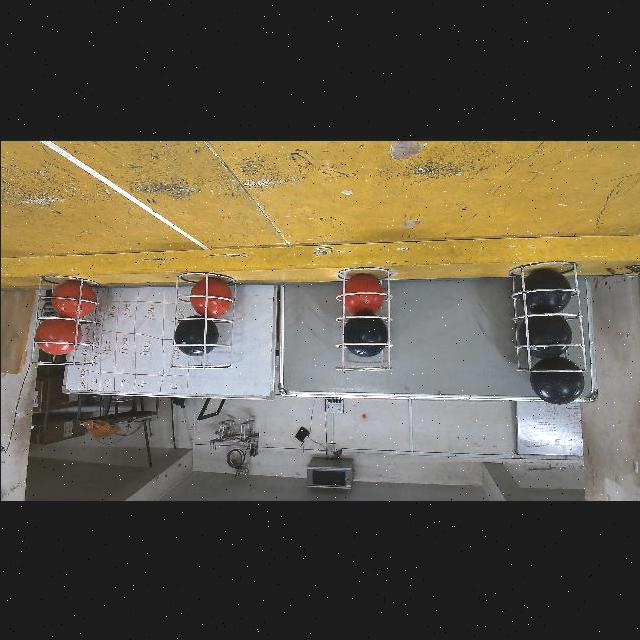P: (530, 355, 586, 405), (521, 267, 574, 312), (518, 313, 570, 358), (344, 316, 388, 358), (172, 318, 218, 356)
R: (340, 272, 383, 314), (189, 276, 231, 317), (50, 280, 95, 318), (34, 318, 81, 354)
S: (516, 270, 590, 372), (338, 260, 397, 370), (168, 275, 230, 373), (31, 264, 90, 366)
